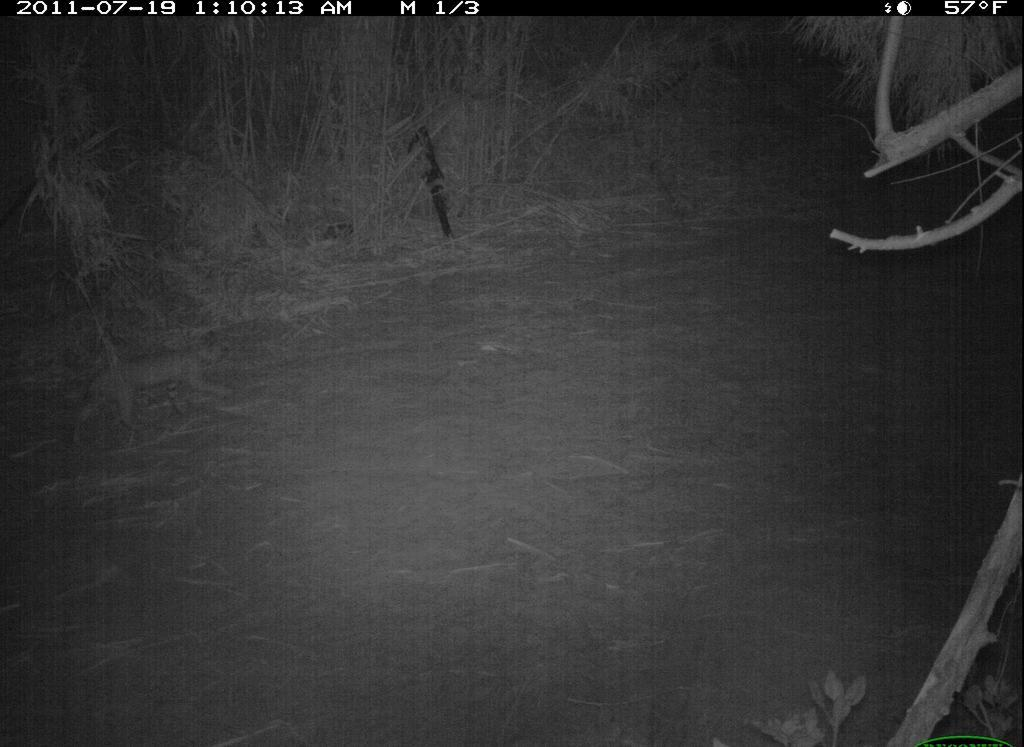bobcat: (70, 329, 240, 445)
